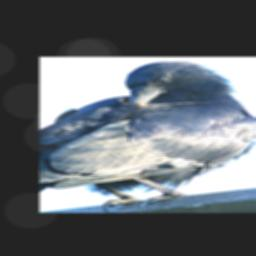Crow: (40, 61, 256, 212)
